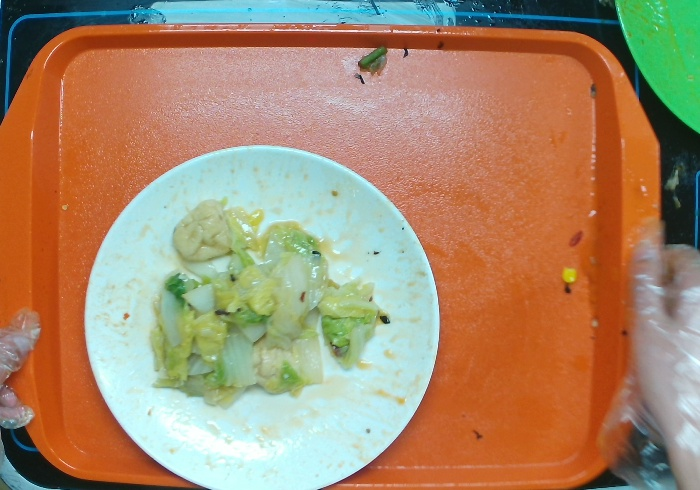HZYJPL-Bai_Se_Yuan_Pan: (85, 145, 442, 490)
